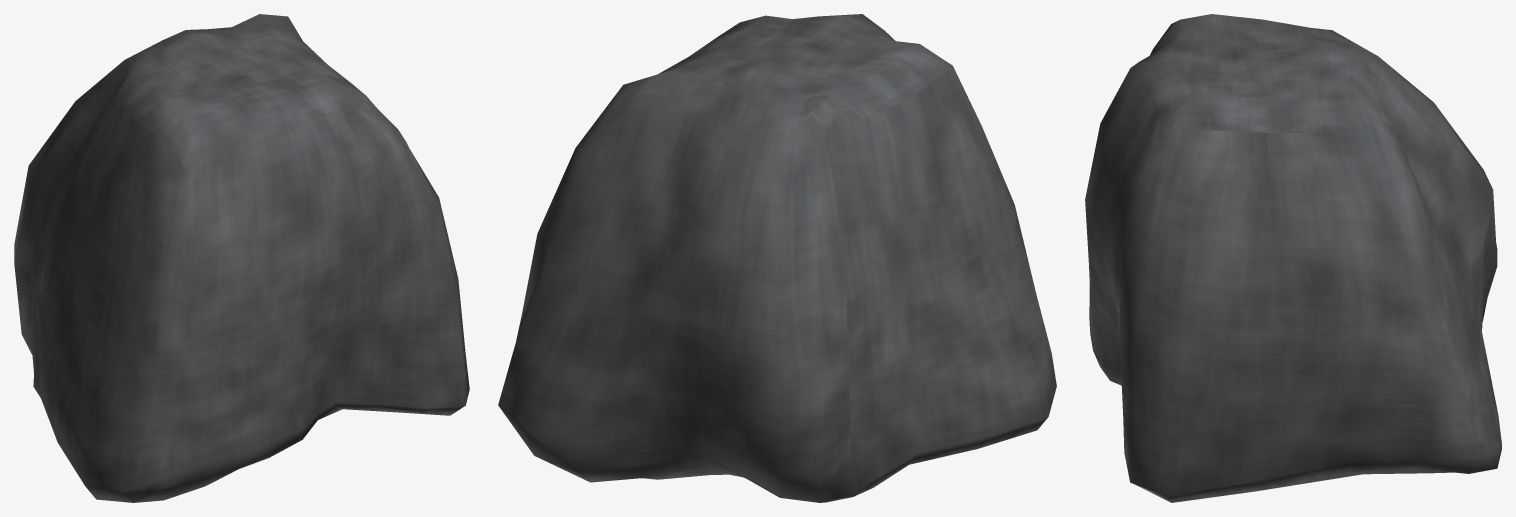
The model's file is Kei 1.fbx.
The picture shows the model from 3 angles, left to right: view 1: azimuth 30°, elevation 25°; view 2: azimuth 150°, elevation 25°; view 3: azimuth 270°, elevation 25°; orthographic projection. The views are drawn at different scales.
Visible parts, largest first — view 1: pCube2; view 2: pCube2; view 3: pCube2.
Part boxes in pixels (x1,y1,x2,y2): pCube2: (14, 14, 469, 502); pCube2: (498, 14, 1056, 502); pCube2: (1085, 14, 1501, 502).
Bounding box in the file's own units: 8.16 × 7.41 × 7.46.
1 material, 1 textured.
